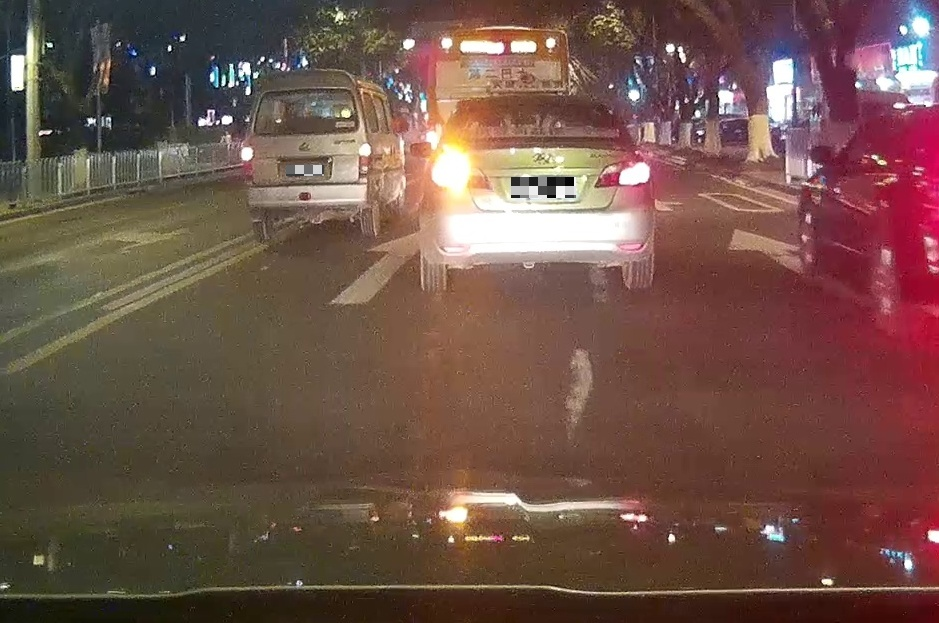L_light: (429, 157, 493, 192), (241, 146, 254, 175)
R_light: (596, 156, 652, 187), (359, 141, 372, 175)
T_light: (526, 103, 555, 108), (293, 89, 312, 94)
night-left: (419, 94, 654, 291)
night-no: (240, 69, 374, 237)
plate_1: (286, 165, 324, 176)
plate_2: (511, 177, 576, 198)
